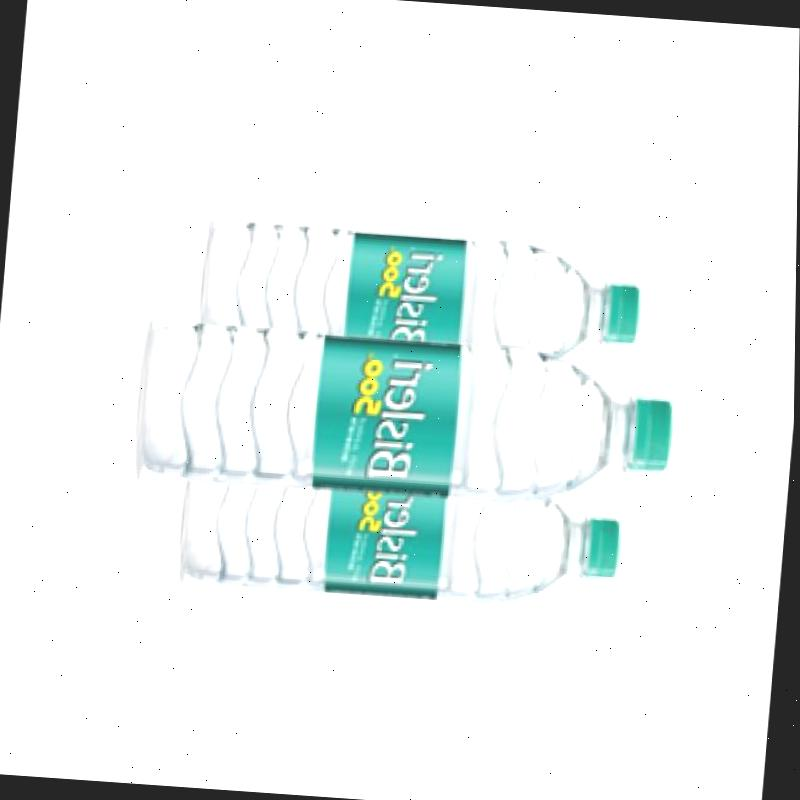botella: (134, 316, 679, 503), (190, 217, 644, 364), (177, 472, 626, 615)
